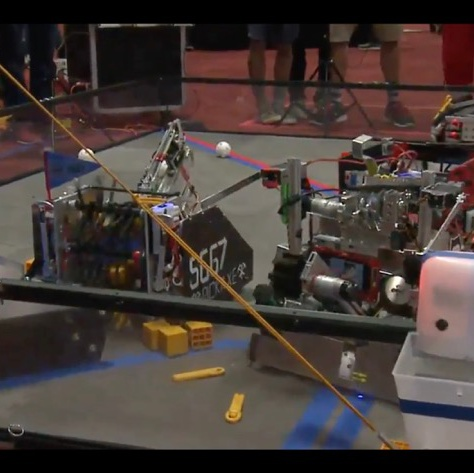robot: (27, 116, 257, 310), (256, 131, 474, 329), (431, 90, 474, 145)
